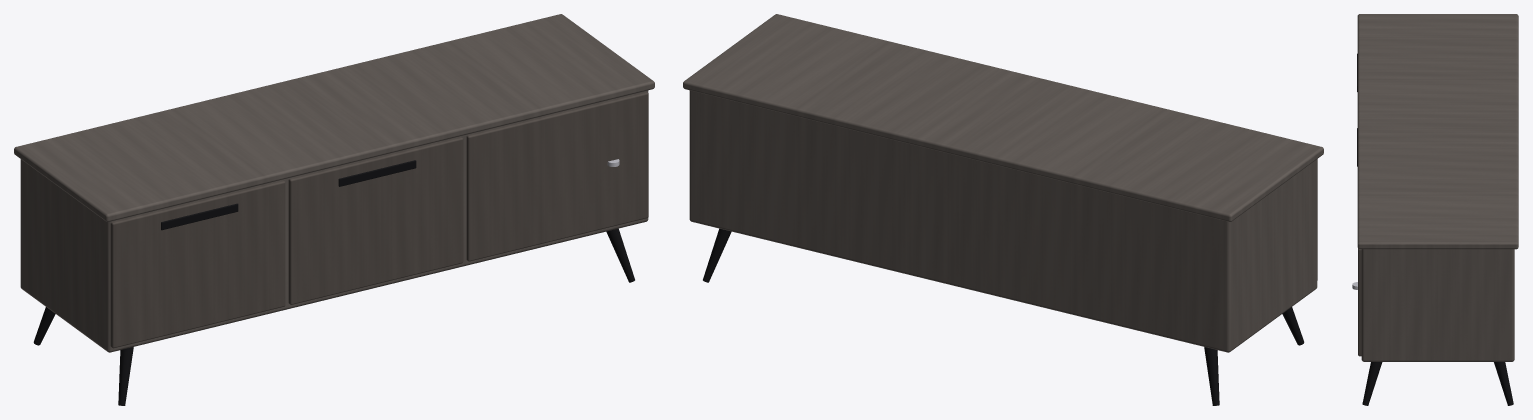
File: tv-tumba-modern.glb
3 views of the same model, side by side, from view 1: azimuth 30°, elevation 25°; view 2: azimuth 150°, elevation 25°; view 3: azimuth 270°, elevation 25° (orthographic). The views are drawn at different scales.
Visible parts, largest first — view 1: furniture; view 2: furniture; view 3: furniture.
Boxes of the visible parts, bbox=[...] form: furniture: bbox=[14, 14, 654, 405]; furniture: bbox=[683, 14, 1323, 405]; furniture: bbox=[1352, 14, 1518, 405].
Size of the model in its own units: 1.42 by 0.4928 by 0.4336.
Materials: 4 (2 with a texture image).
